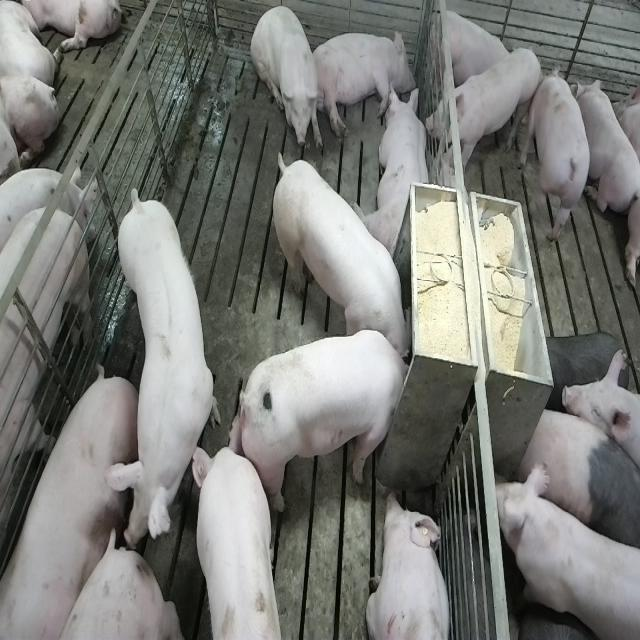Feeding: (239, 328, 420, 512), (267, 143, 411, 360)
Lateral_lying: (309, 25, 418, 138)
Sitting: (251, 4, 324, 153)
Standing: (0, 200, 96, 640), (112, 190, 220, 552), (496, 462, 638, 640), (518, 394, 639, 566), (194, 445, 288, 640), (423, 49, 543, 178), (530, 59, 592, 243)
Sternal_lying: (366, 490, 453, 640), (360, 85, 432, 263), (579, 68, 639, 217), (429, 5, 514, 94)
